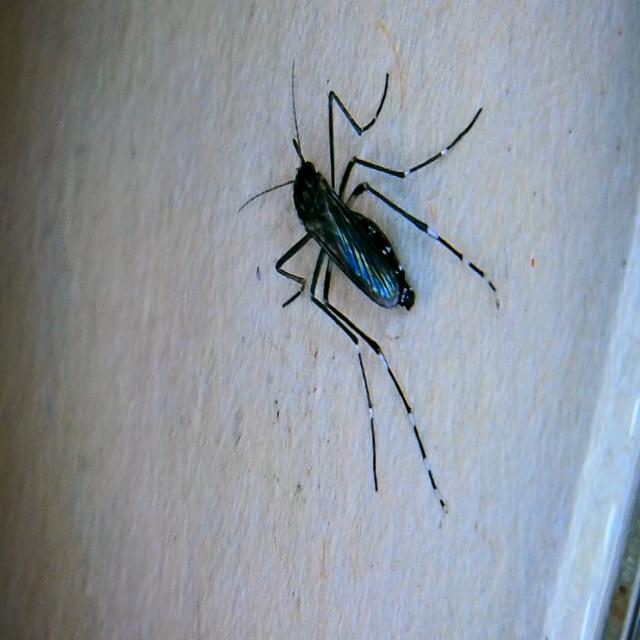albopictus: (226, 43, 498, 546)
